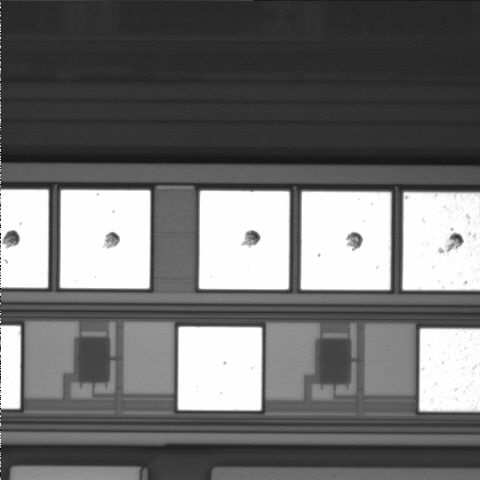pad: (60, 190, 150, 289), (199, 191, 289, 289), (301, 192, 391, 290), (178, 327, 262, 410)
